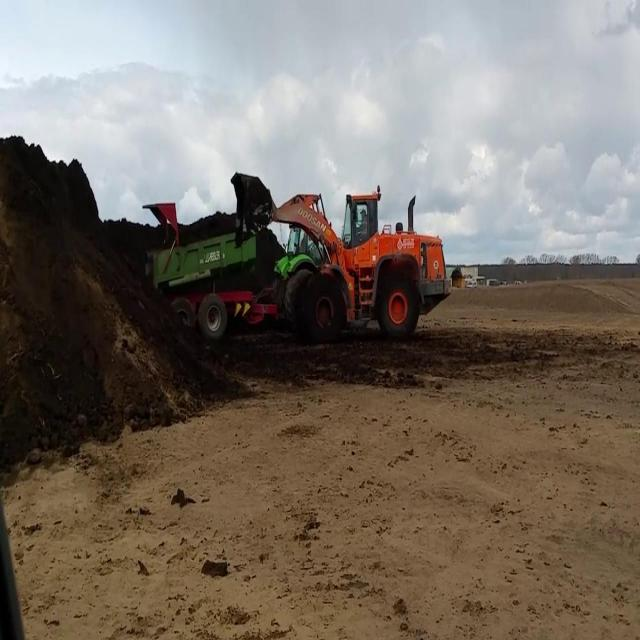Dump Truck: (139, 199, 331, 340)
Loader: (230, 169, 452, 339)
